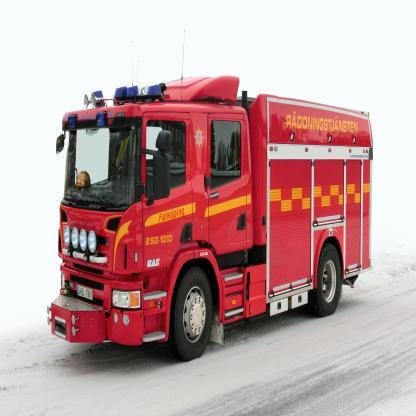fire-truck: (35, 55, 391, 388)
